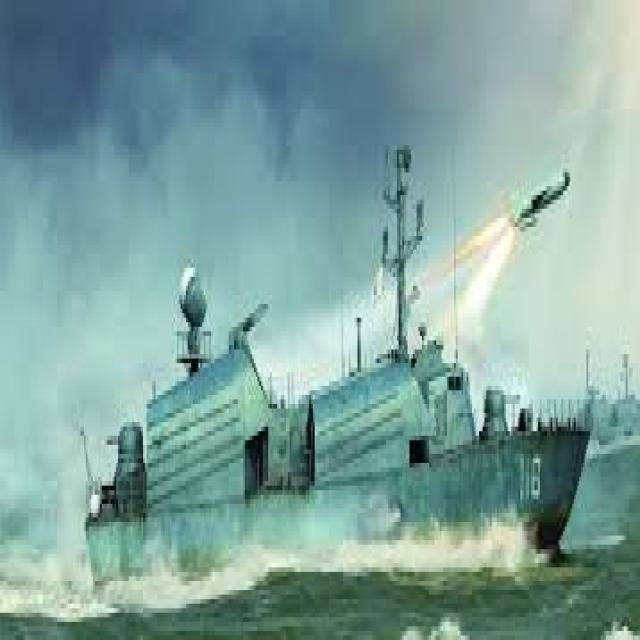navalvessels: (82, 114, 580, 575)
